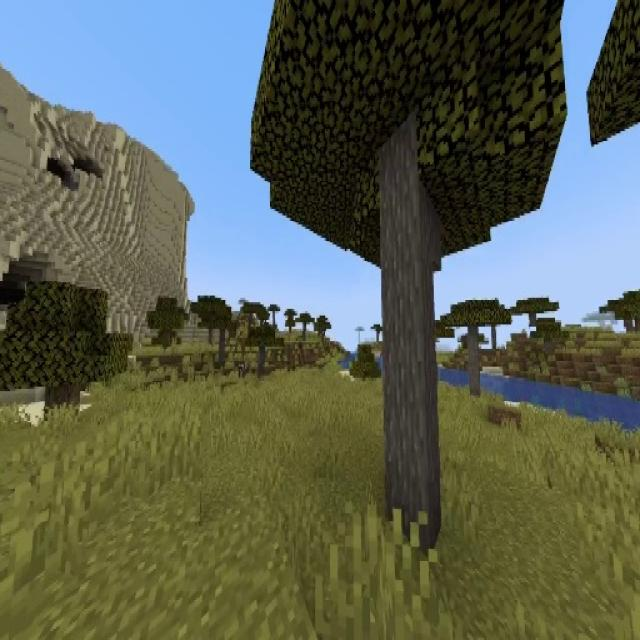acacia: (250, 0, 564, 548), (446, 300, 508, 396), (195, 294, 236, 366), (512, 296, 556, 341)
acacia_log: (382, 123, 442, 542), (467, 328, 480, 393)
oak: (0, 279, 126, 419), (149, 295, 185, 350)
oak_log: (46, 382, 78, 413)
